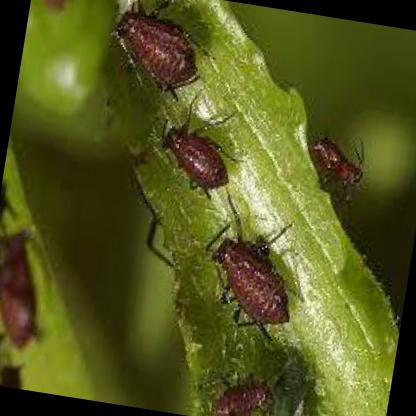uroleucon compositae: (206, 192, 291, 328), (110, 8, 201, 90), (155, 127, 228, 196)
